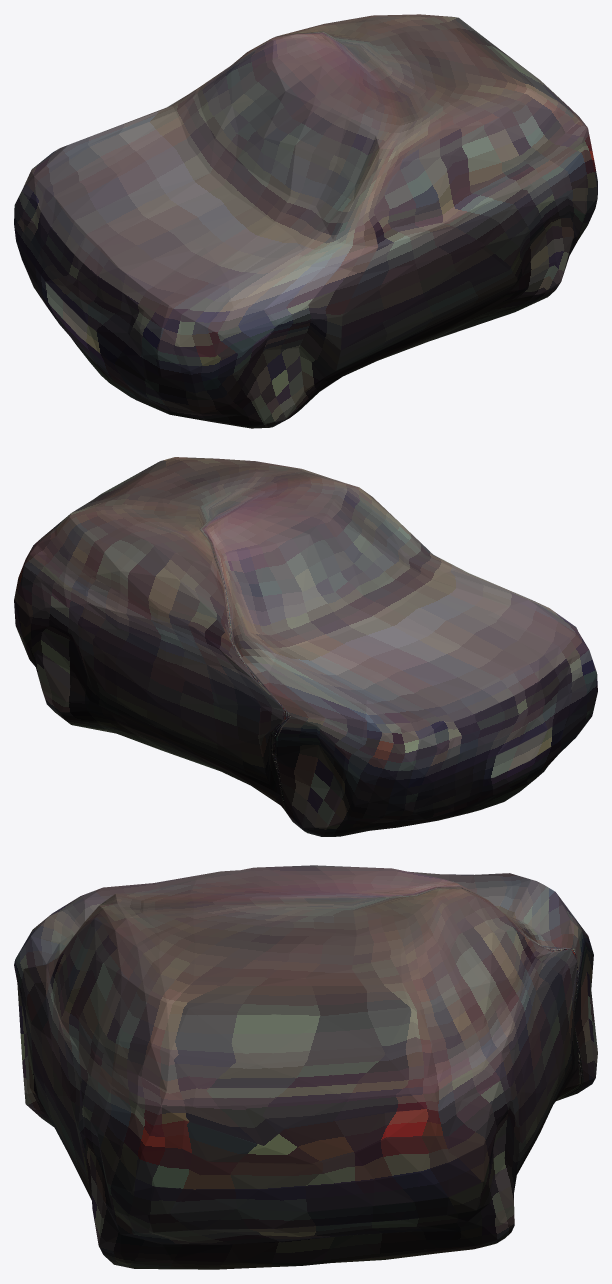
The model's file is video3_146.obj.
3 views of the same model, one above another, from view 1: azimuth 30°, elevation 25°; view 2: azimuth 150°, elevation 25°; view 3: azimuth 270°, elevation 25° (orthographic). The views are drawn at different scales.
Bounding box in the file's own units: 1 × 0.5029 × 0.7603.
Materials: 1 (1 with a texture image).
